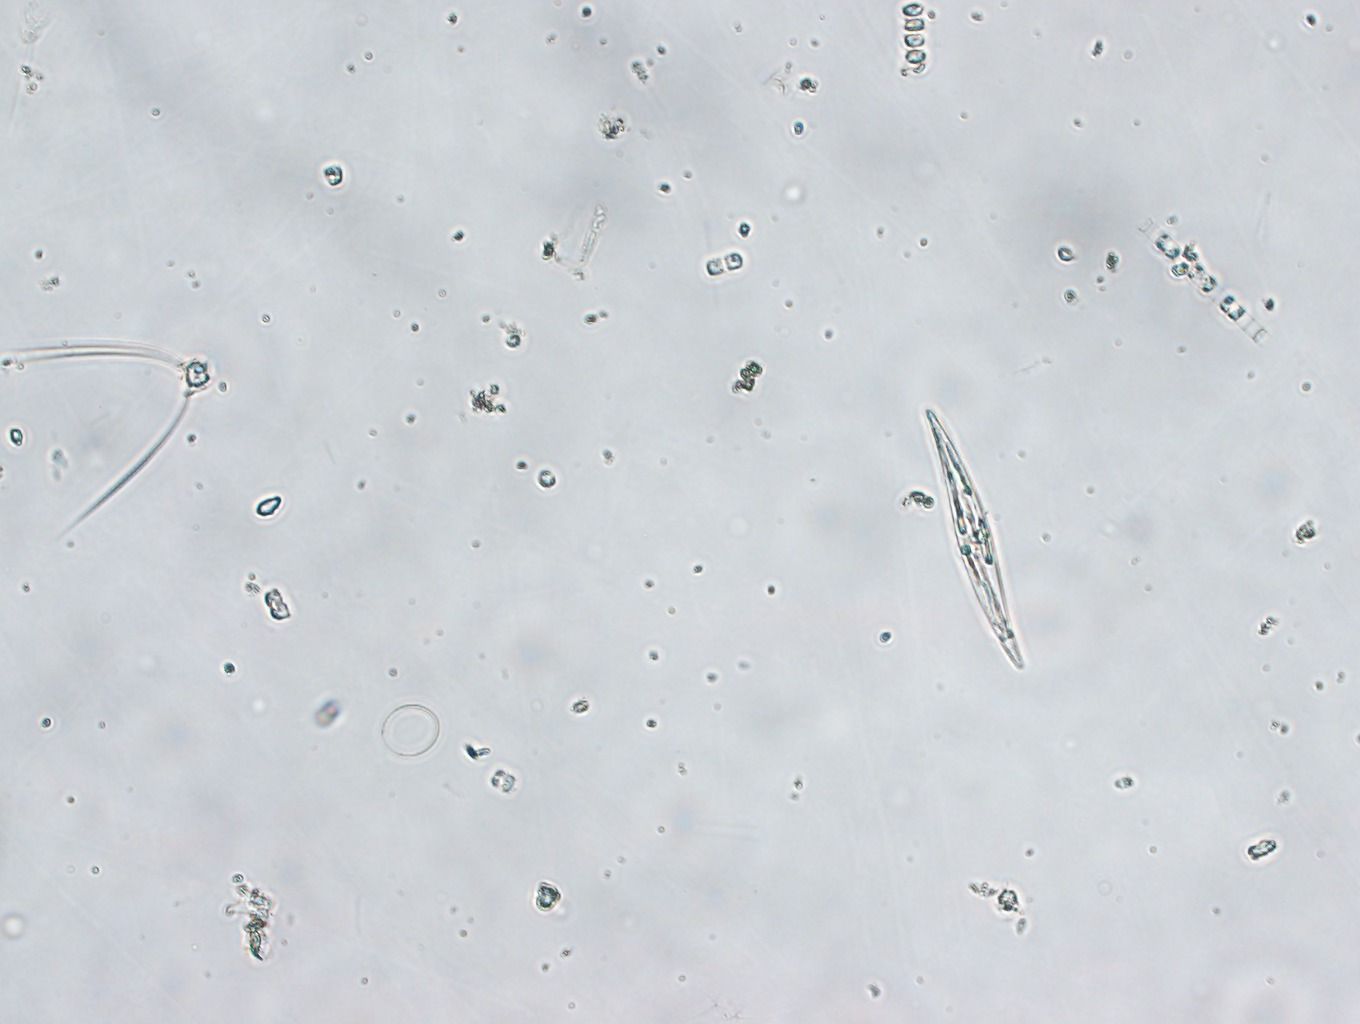chaetoceros: (2, 321, 215, 539)
pleurosigma pelagicum: (918, 395, 1029, 673)
skeletonema: (1139, 207, 1269, 353), (881, 5, 943, 93)
